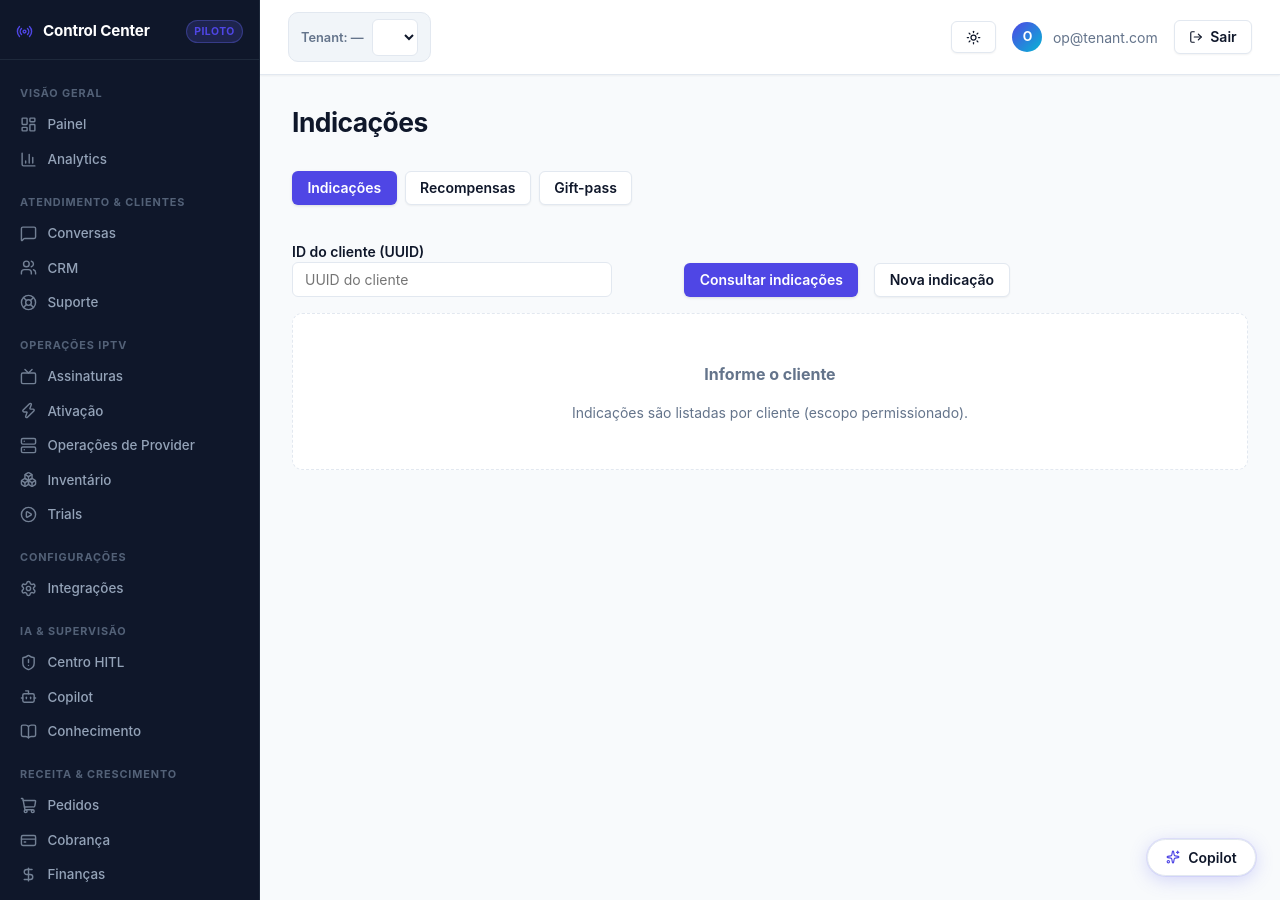
Test: ReferralsPage › cria nova indicação para um cliente sob crm.lead.write
Expected: the heading "Indicações" is shown, [292, 106, 428, 138]
Click the button "Nova indicação" at (942, 280), box [874, 263, 1010, 297]
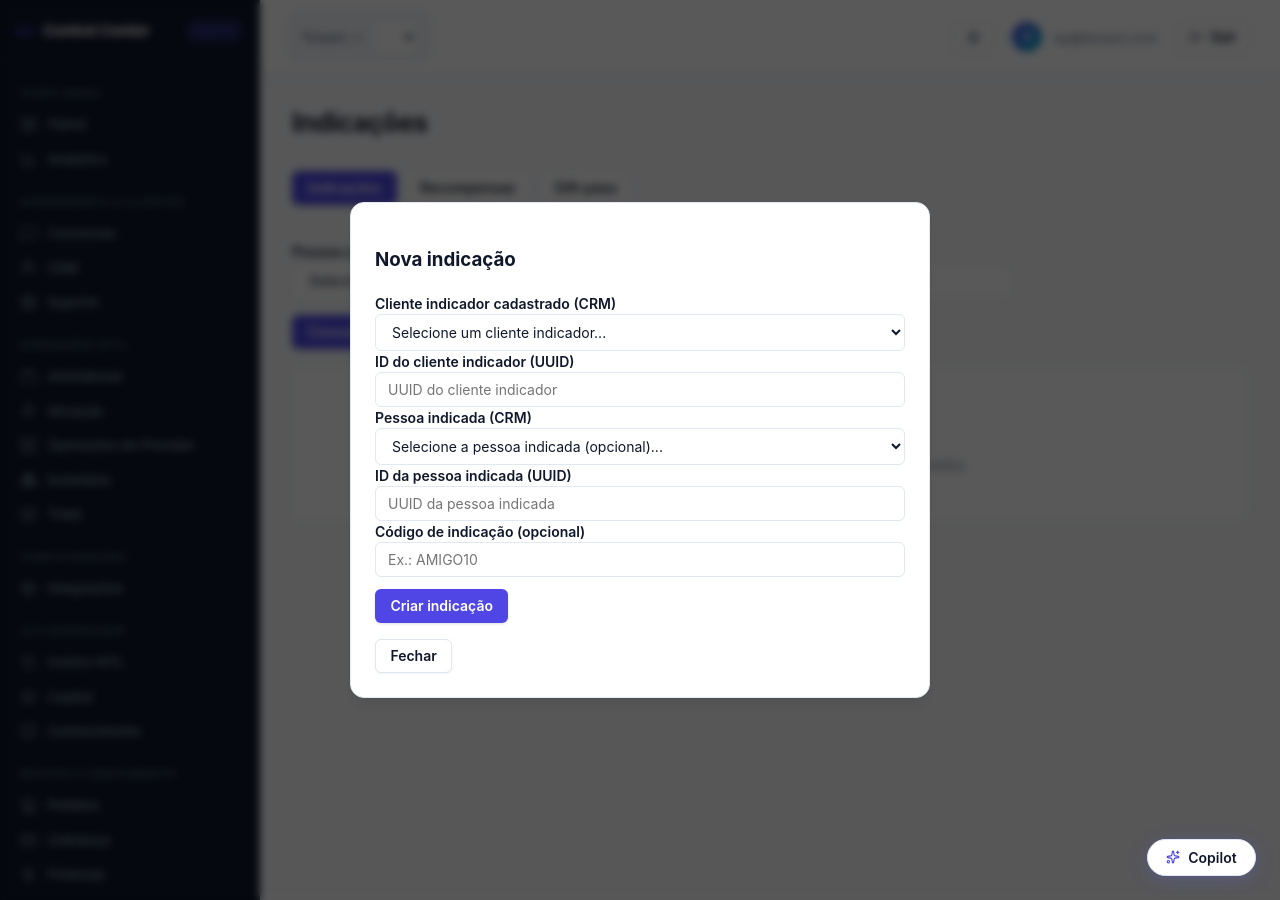
Type "c-100" into the field with placeholder "UUID do cliente indicador" at (640, 389), box [375, 372, 905, 407]
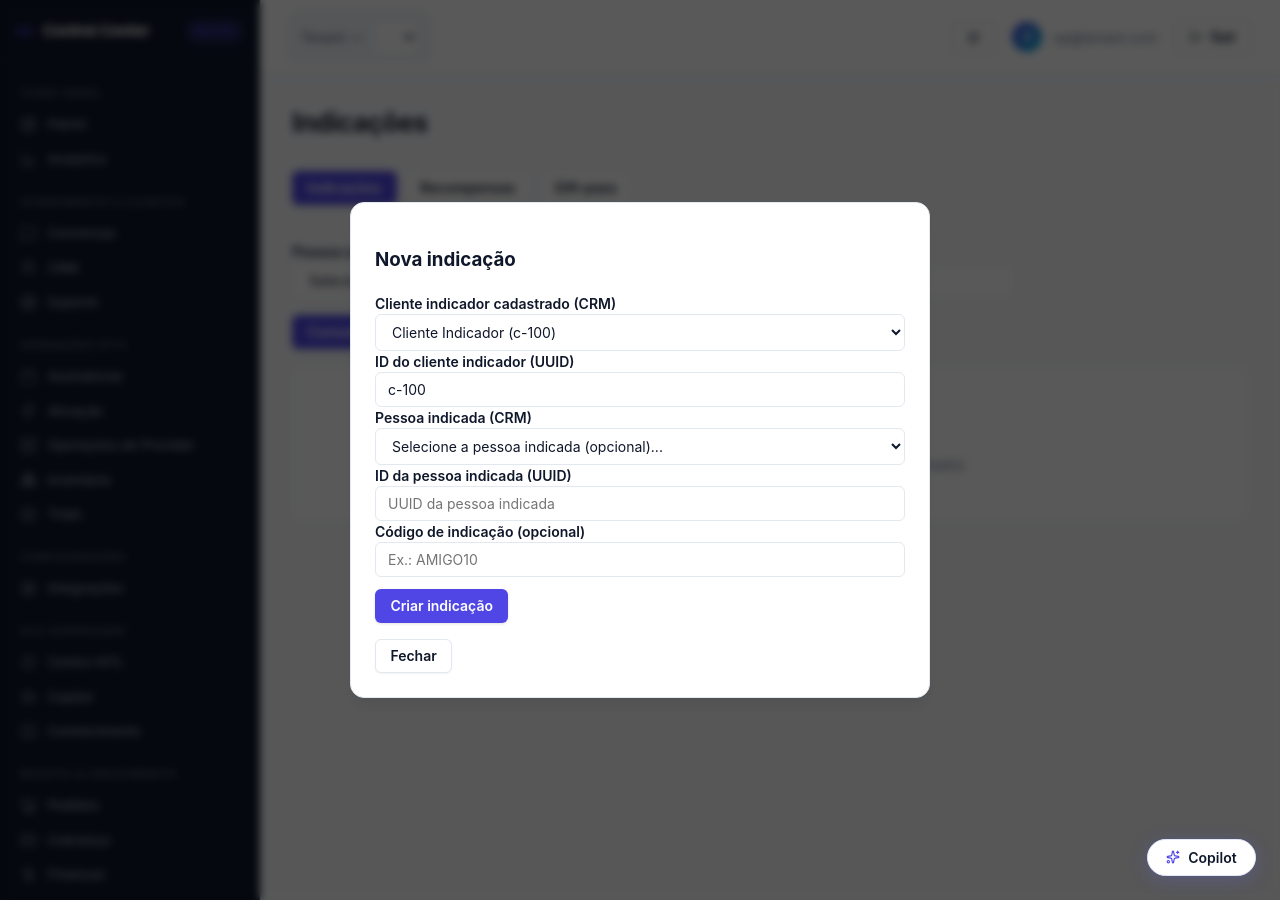
Type "p-200" into the field with placeholder "UUID da pessoa indicada" at (640, 503), box [375, 486, 905, 521]
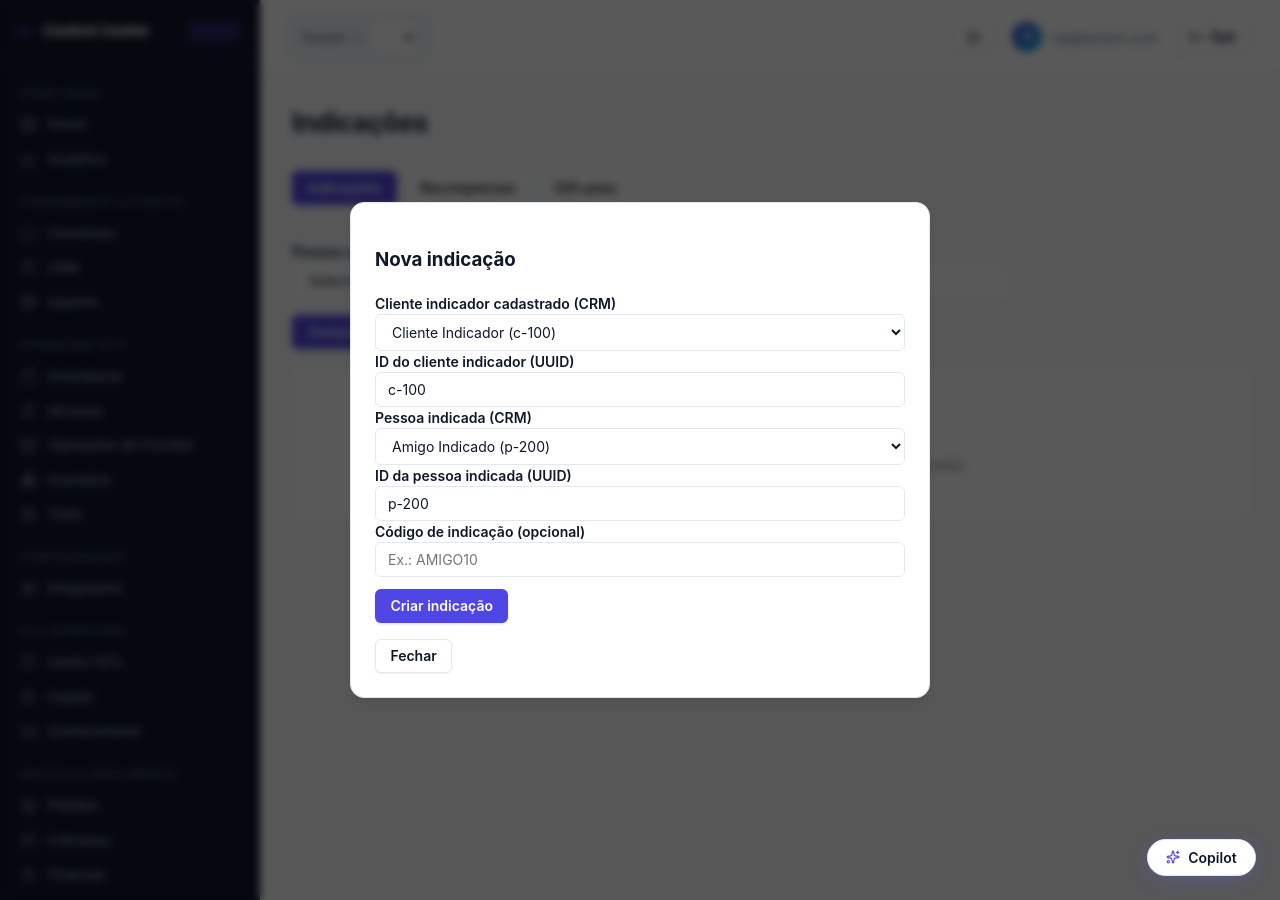
Type "AMIGO10" into the field with placeholder "Ex.: AMIGO10" at (640, 559), box [375, 542, 905, 577]
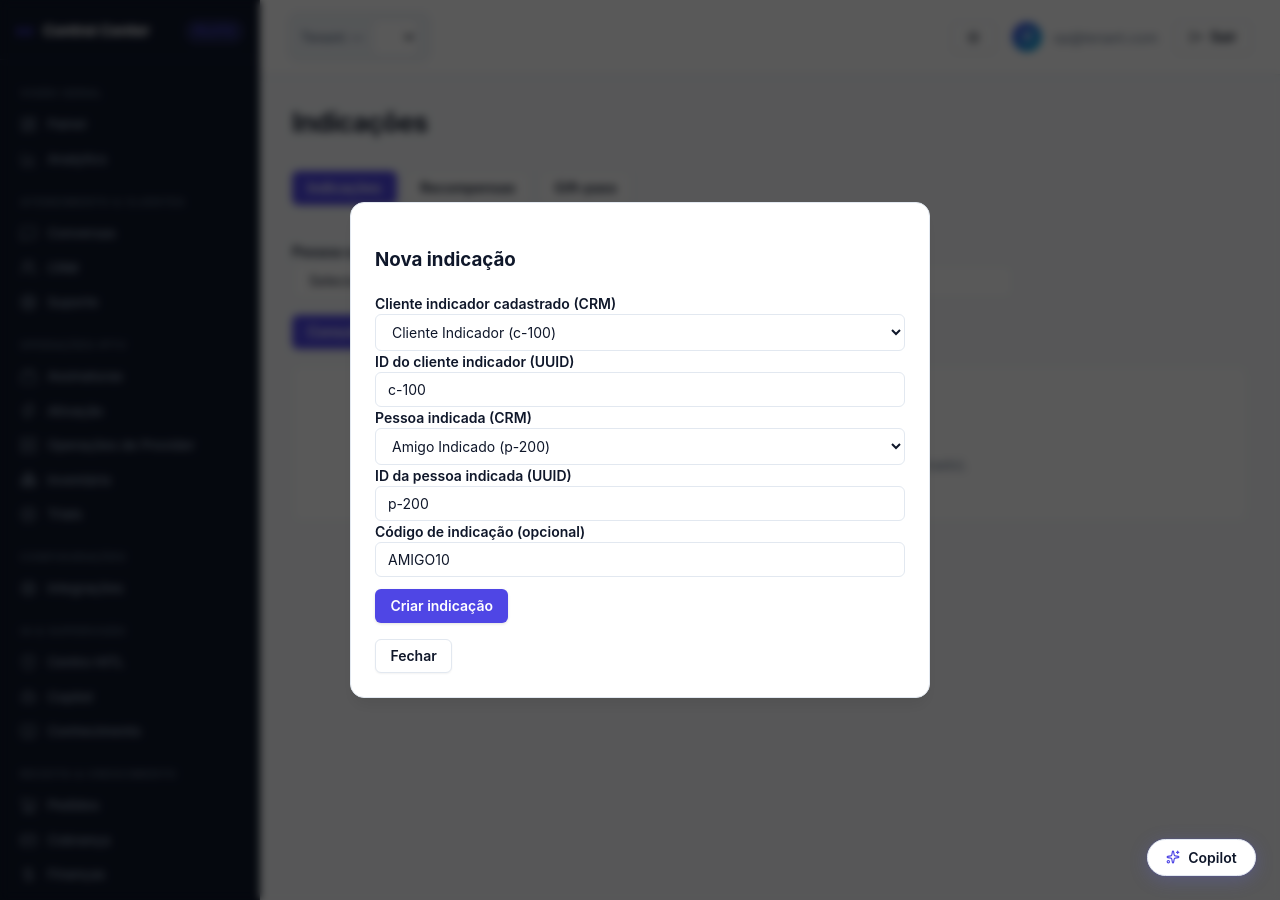
Click the button "Criar indicação" at (442, 606), box [375, 589, 508, 623]
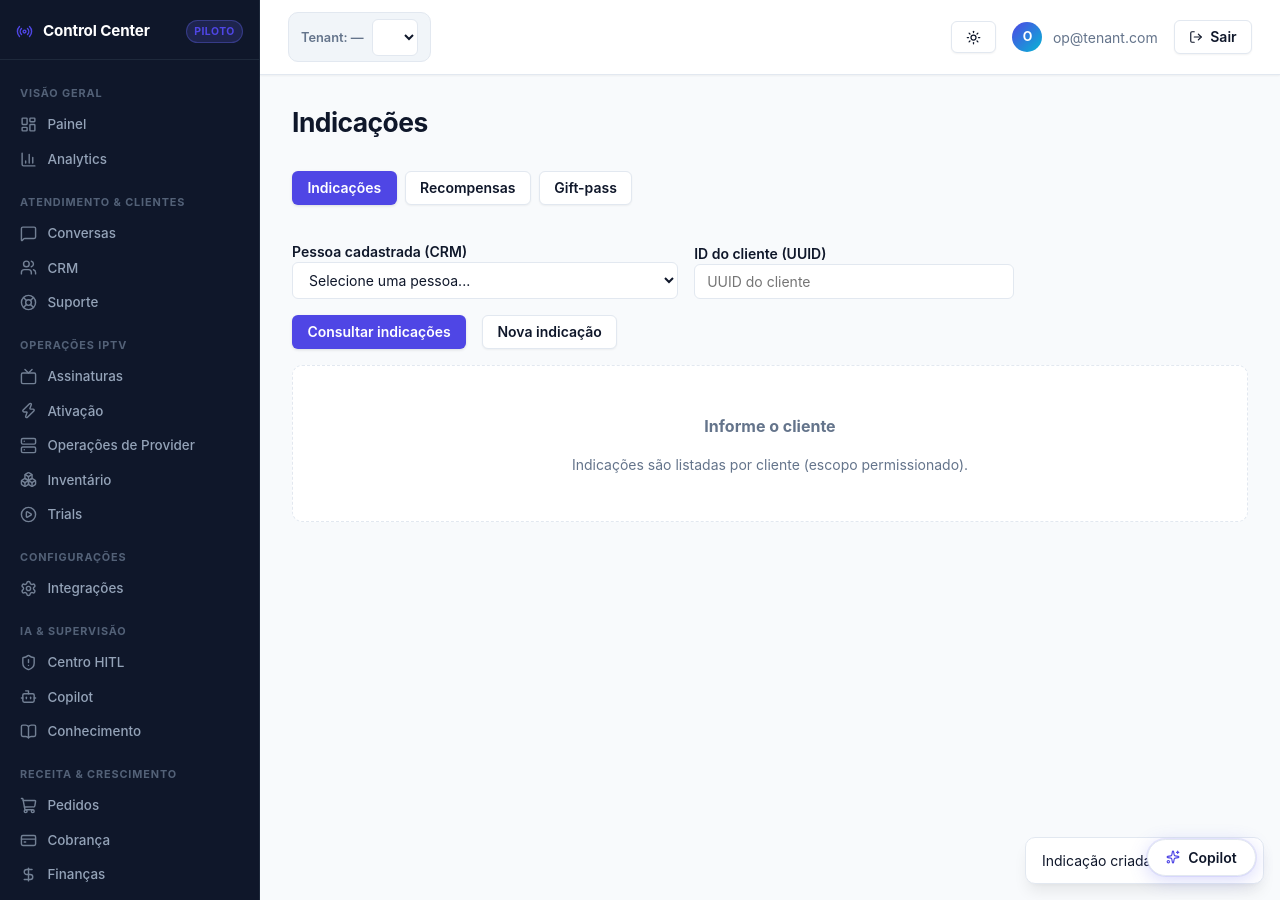
Expected: the text "Indicação criada com sucesso." is shown, [1025, 837, 1264, 884]
